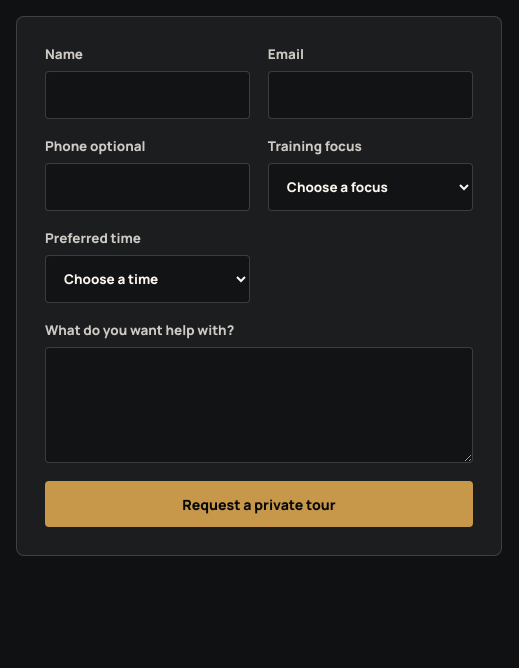
Scenario: BookingSection › shows calm validation errors for an empty submission
(page scrolled)
What coordinates should you click on to do the following:
click the button "Request a private tour"
I would click on:
 (259, 504)
Its box is [45,481,473,527].
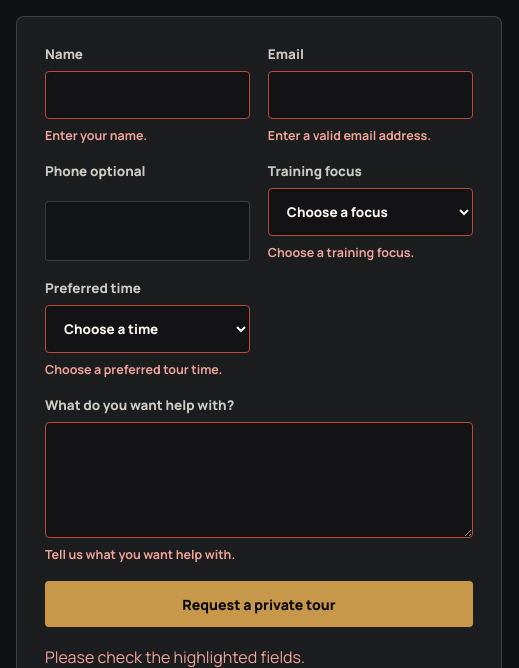
expect the text "Enter your name." is shown: met, box [45,127,147,144]
expect the text "Enter a valid email address." is shown: met, box [268,127,431,144]
expect the text "Choose a training focus." is shown: met, box [268,244,414,261]
